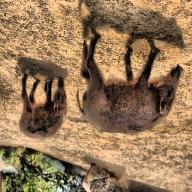boar: (68, 26, 188, 153)
